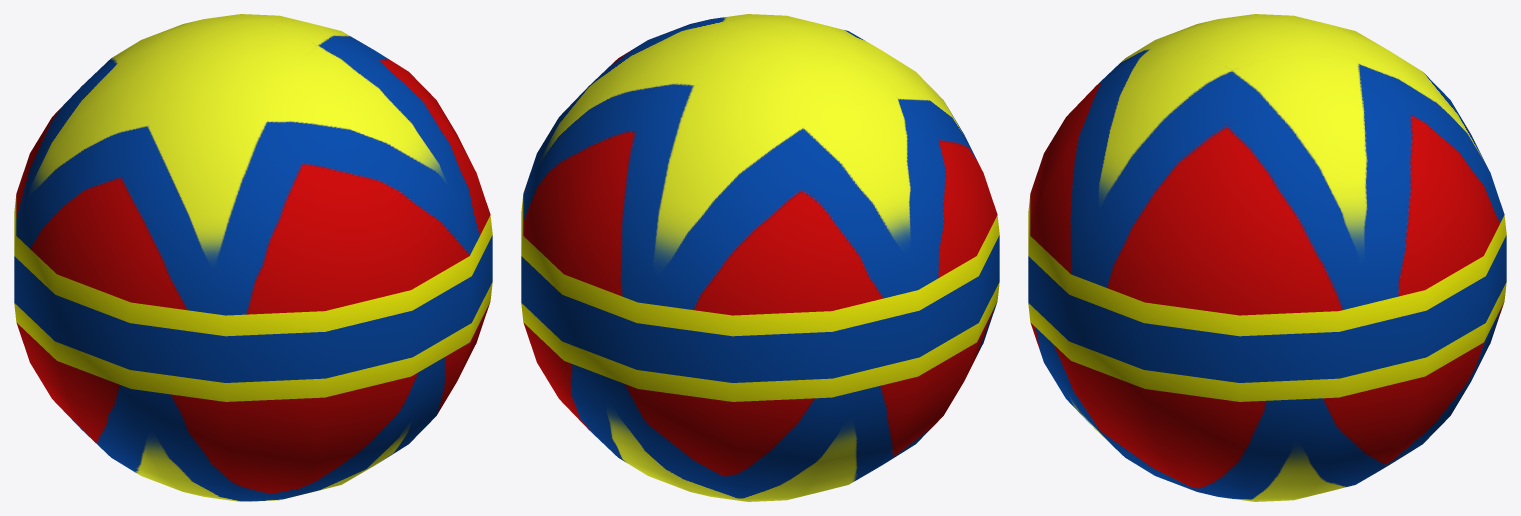
File: Ball.glb
3 views of the same model, side by side, from view 1: azimuth 30°, elevation 25°; view 2: azimuth 150°, elevation 25°; view 3: azimuth 270°, elevation 25° (orthographic).
Visible parts, largest first — view 1: ball; view 2: ball; view 3: ball.
Part boxes in pixels (box(x1,y1,x2,y2)): ball: box(14, 14, 492, 501); ball: box(521, 14, 999, 501); ball: box(1028, 14, 1506, 501).
Size of the model in its own units: 1.97 by 2 by 1.96.
1 material, 1 textured.
